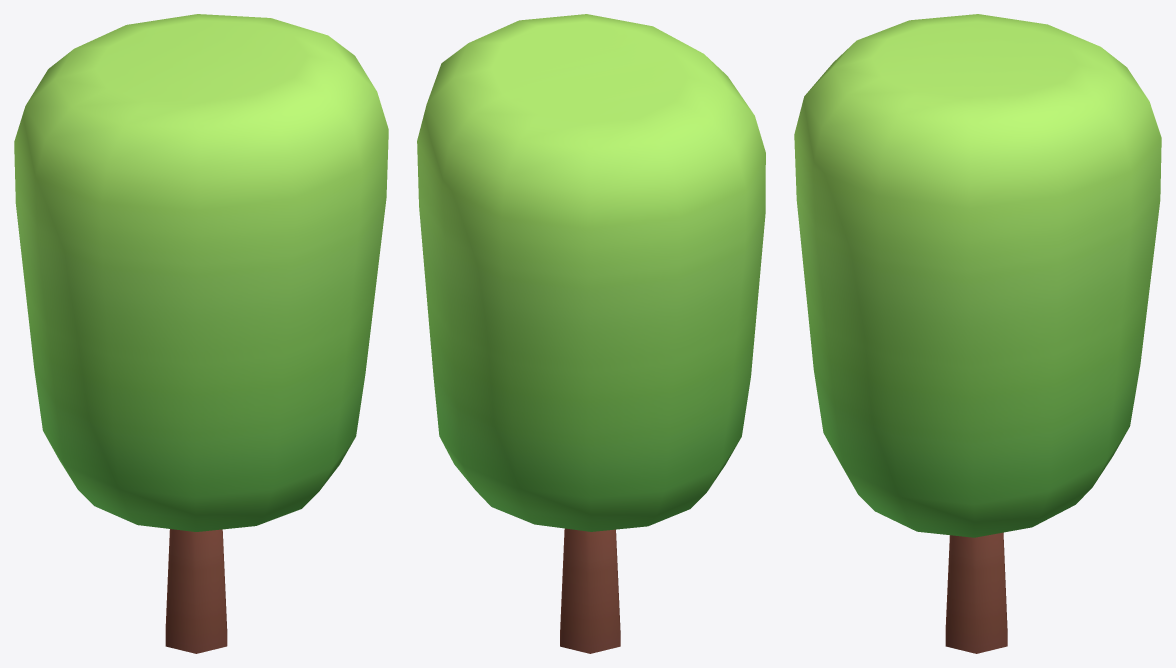
The model's file is city2-tree-03.glb.
3 renders of one model, left to right at view 1: azimuth 30°, elevation 25°; view 2: azimuth 150°, elevation 25°; view 3: azimuth 270°, elevation 25°, orthographic. The views are drawn at different scales.
Parts seen in each view (by area): view 1: Tree_03; view 2: Tree_03; view 3: Tree_03.
Boxes of the visible parts, box(x1,y1,x2,y2) form: Tree_03: box(14, 14, 388, 653); Tree_03: box(417, 14, 765, 653); Tree_03: box(794, 14, 1161, 653).
Size of the model in its own units: 3.42 by 5.82 by 3.3.
Materials: 1 (1 with a texture image).
